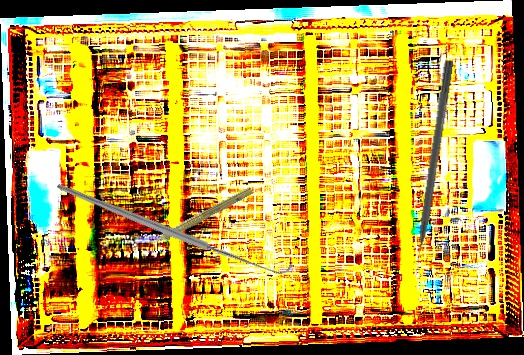Handpiece: (141, 182, 255, 252)
Hook Surgical: (53, 100, 295, 354)
Pusher: (408, 59, 455, 277)
